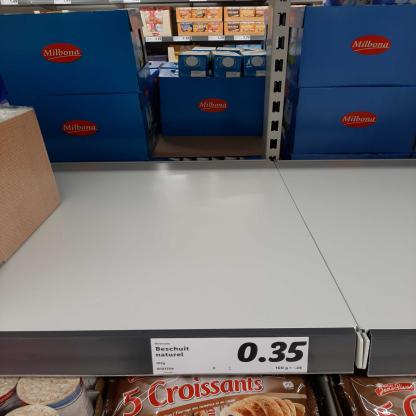prtg: (151, 338, 310, 376)
